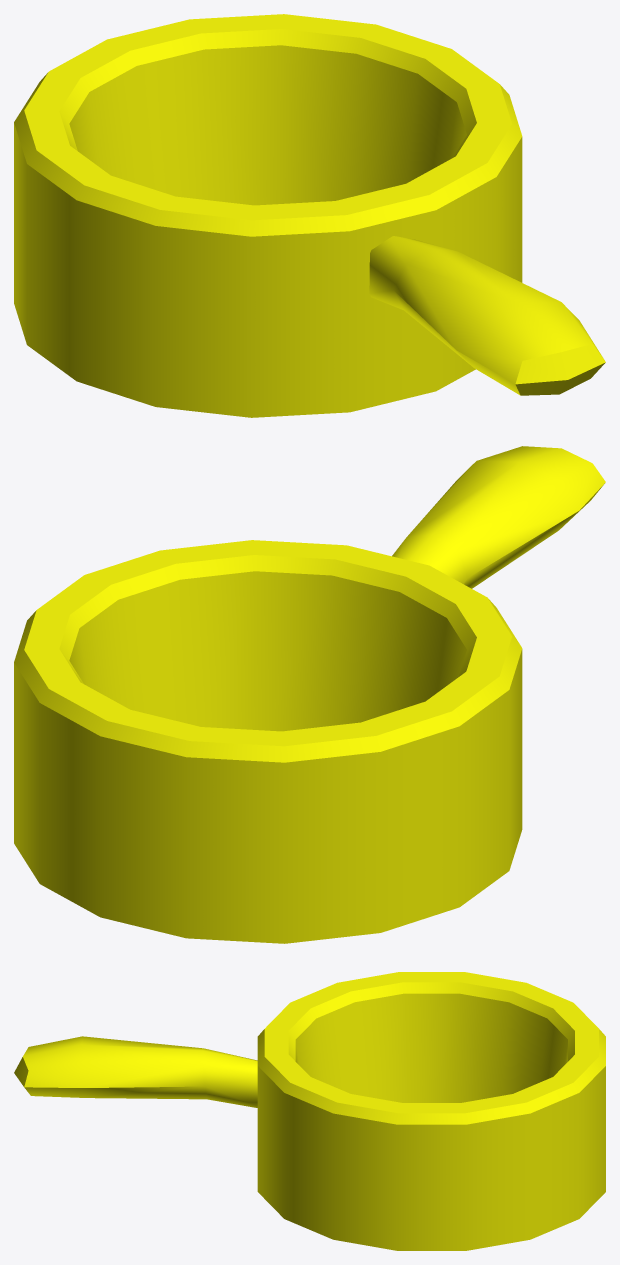
File: kaykit-pan-006.glb
3 renders of one model, top to bottom at view 1: azimuth 30°, elevation 25°; view 2: azimuth 150°, elevation 25°; view 3: azimuth 270°, elevation 25°, orthographic. The views are drawn at different scales.
Parts seen in each view (by area): view 1: pan.006; view 2: pan.006; view 3: pan.006.
Part boxes in pixels (left/top/right/bottom): pan.006: left=14, top=14, right=605, bottom=417; pan.006: left=14, top=446, right=605, bottom=943; pan.006: left=14, top=972, right=605, bottom=1250.
Bounding box in the file's own units: 0.75 × 0.3501 × 1.28.
